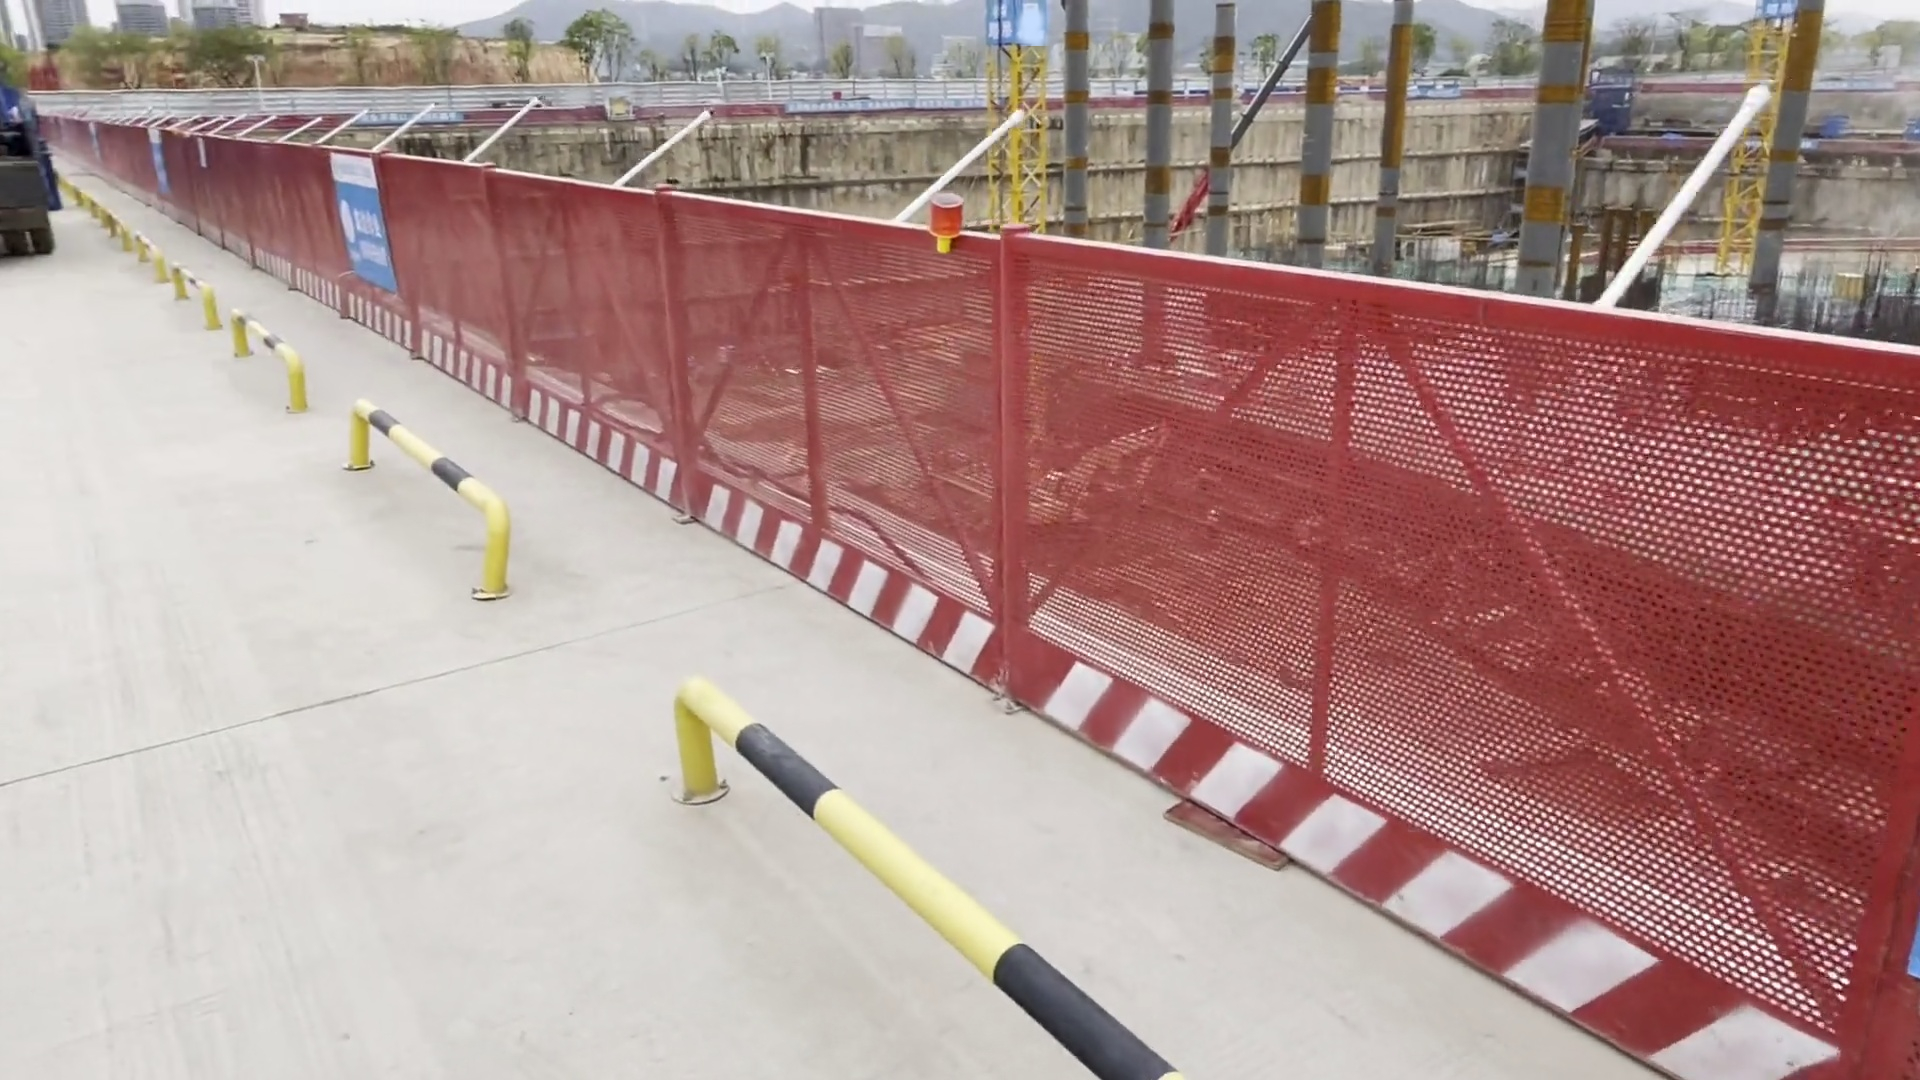fence: (454, 196, 1911, 1000), (491, 109, 626, 129)
slogan: (327, 146, 401, 295), (985, 1, 1018, 40)
